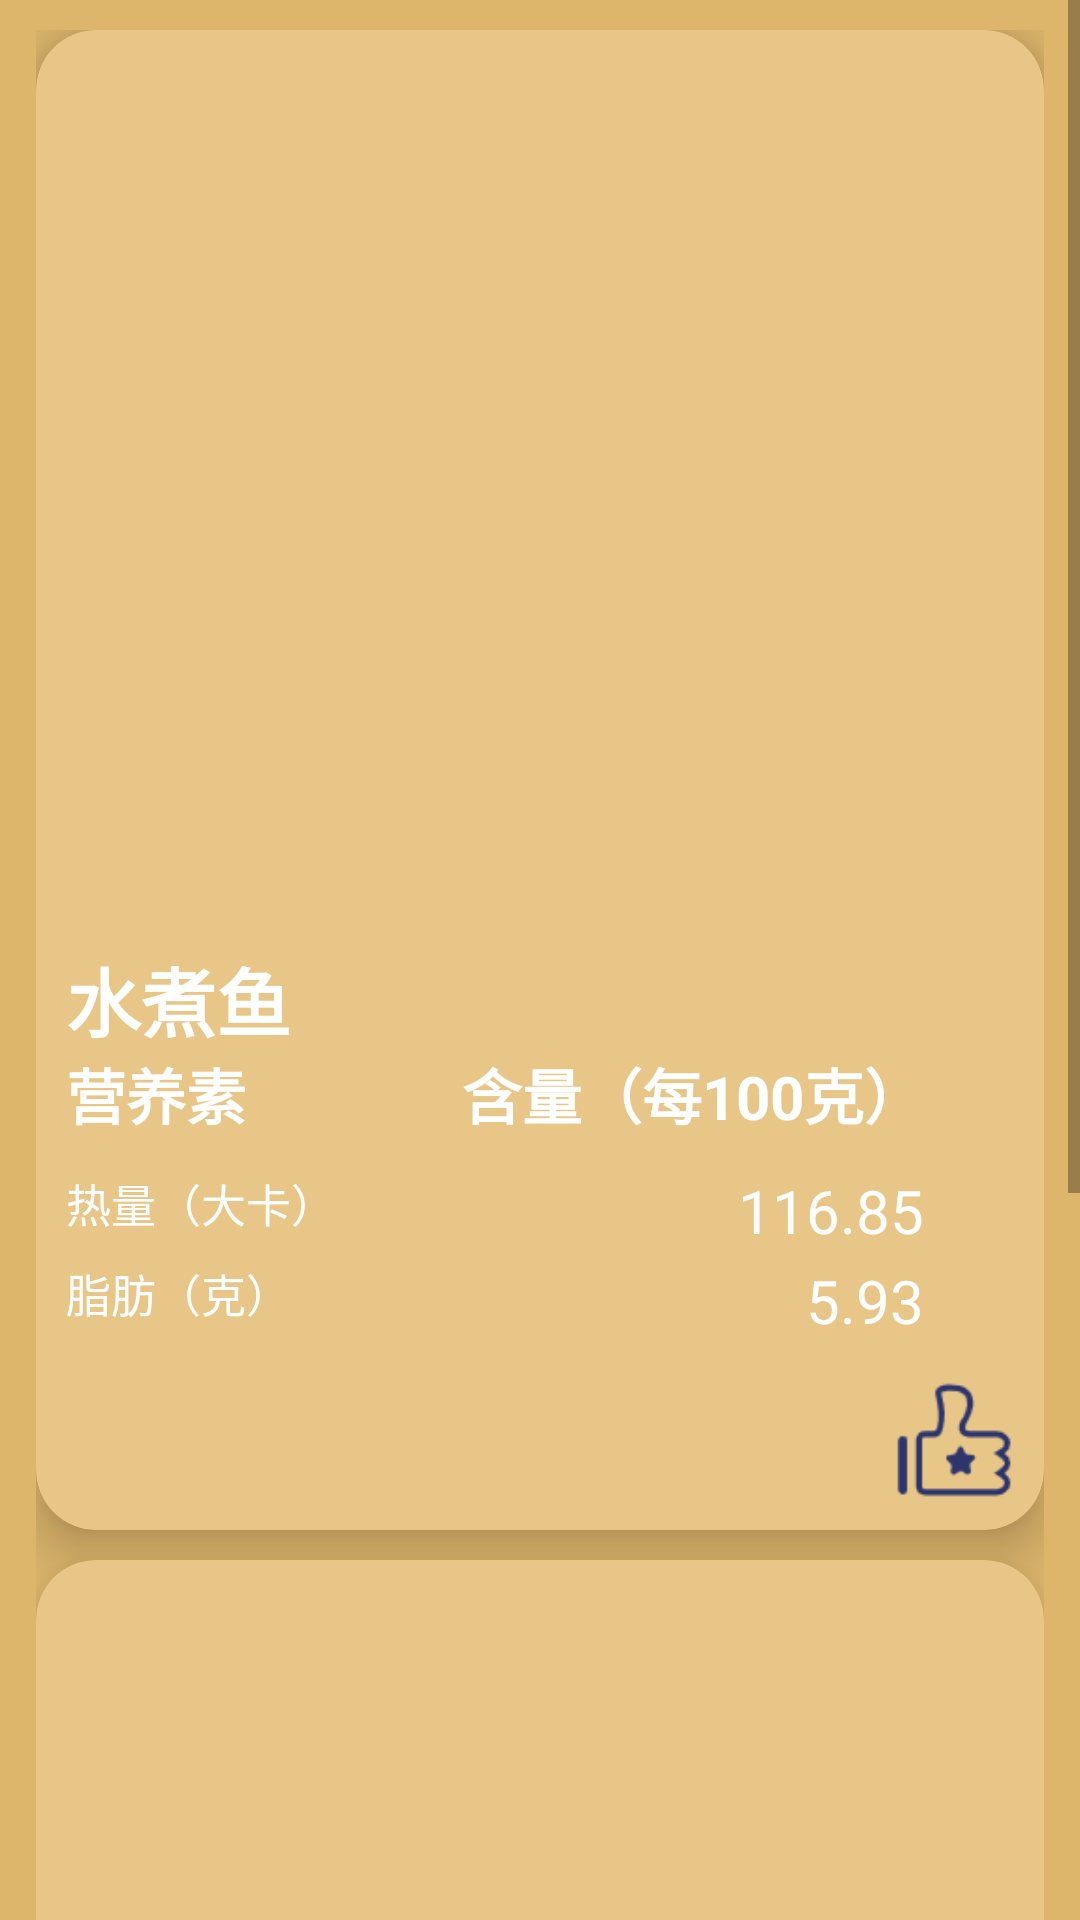

Where icons sit on this 1080px×1920px app screen, as detection(x1, y1, x2, y2):
recommend: detection(897, 1383, 1011, 1497)
